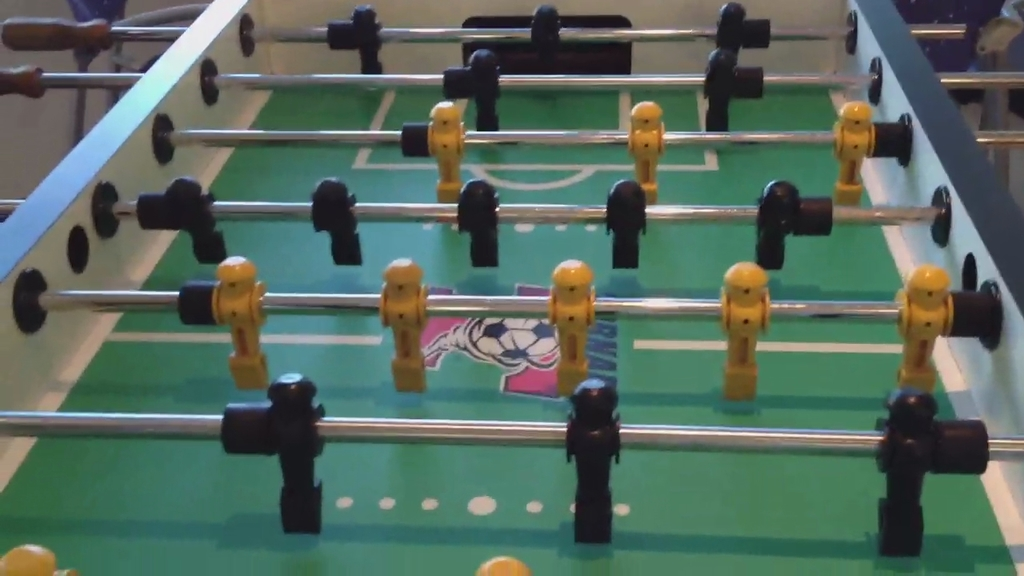Ball: (0, 546, 55, 575), (478, 558, 526, 575)
